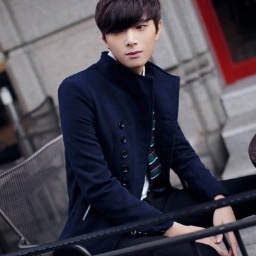face: (94, 1, 163, 68)
